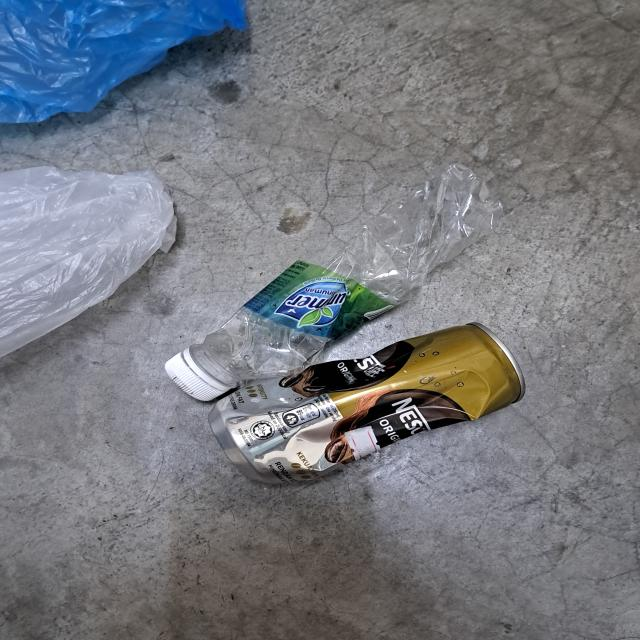can: (208, 321, 524, 486)
plastic bag: (0, 166, 176, 356), (0, 0, 253, 126)
plastic bottle: (192, 161, 502, 383)
plastic bottle cap: (164, 353, 227, 405)
